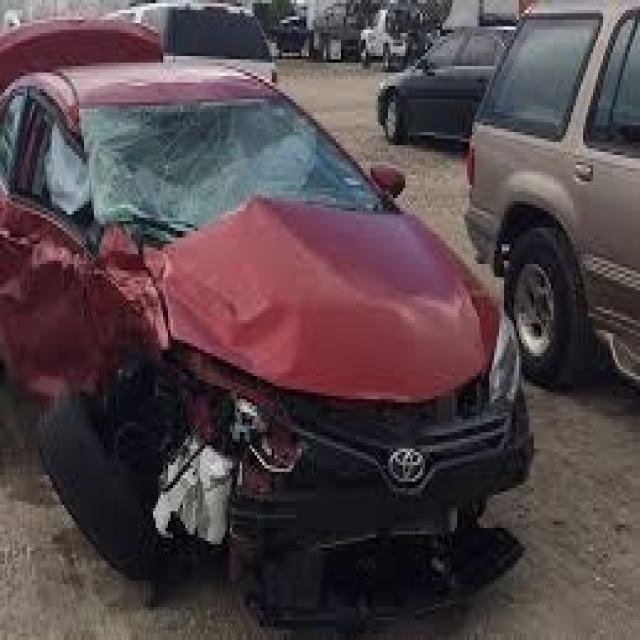accident: (0, 62, 546, 611)
